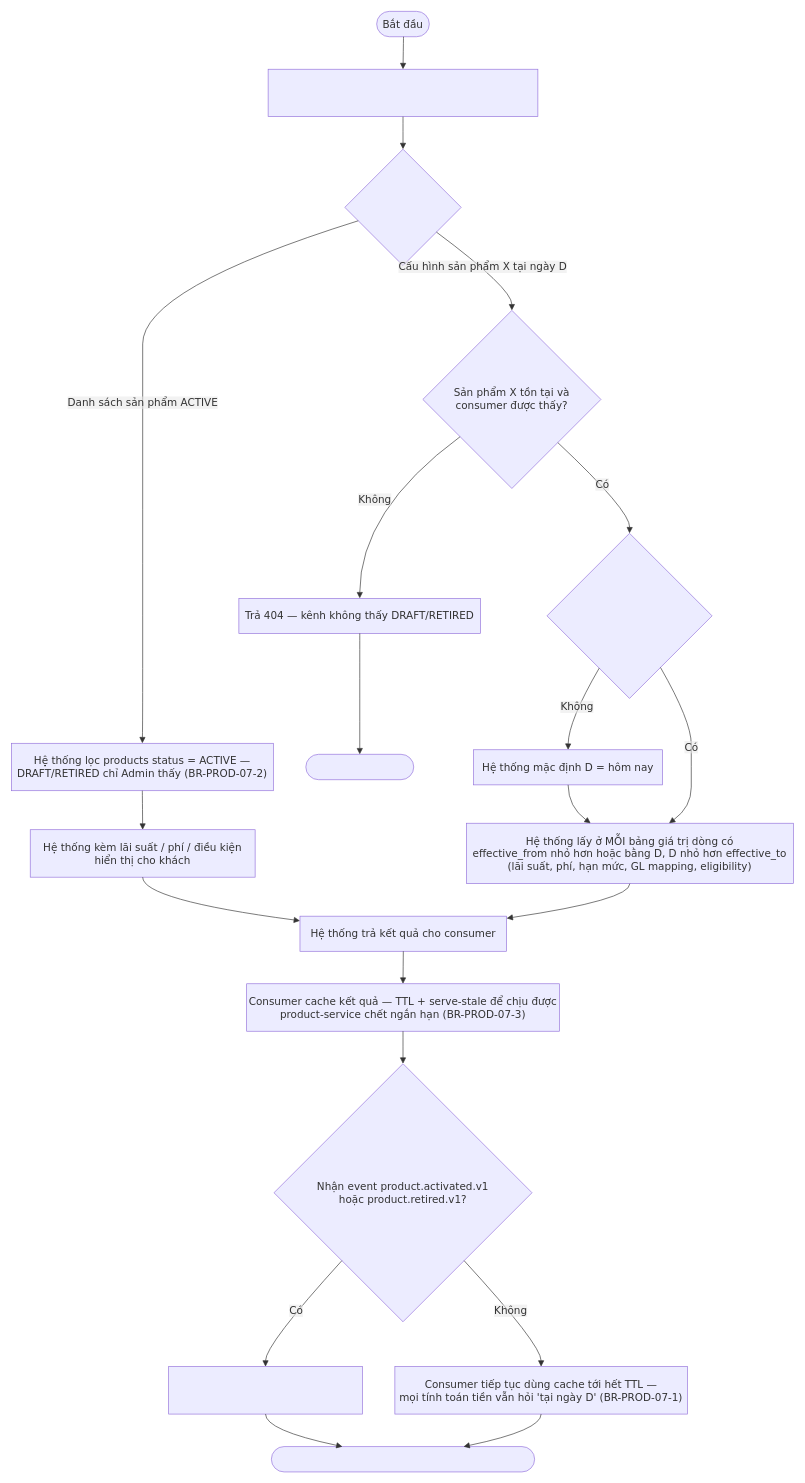
Some shapes in this 805 by 1483 pixel diagram are drawn without their labels. Here are the shapes that lost their labels. From the top down, the centre of each, then its label:
the point at 402,93: Consumer (kênh bán / core-banking / dashboard) gọi API catalog
the point at 402,207: Loại truy vấn?
the point at 629,615: Ngày D được truyền?
the point at 359,767: Kết thúc — thất bại
the point at 265,1390: Consumer vô hiệu cache catalog, nạp lại ở lần gọi kế tiếp
the point at 403,1459: Kết thúc — consumer có cấu hình đúng ngày hiệu lực
